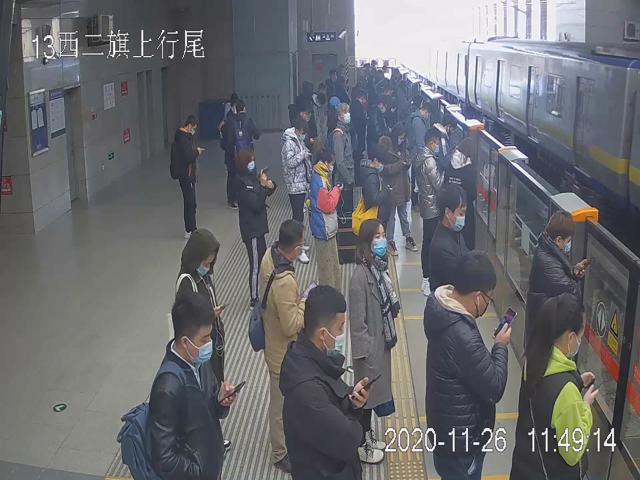person: (423, 252, 511, 480), (148, 292, 238, 480), (282, 287, 368, 480), (512, 291, 599, 480), (259, 220, 313, 470), (348, 219, 402, 466), (525, 209, 587, 353), (233, 150, 273, 310), (377, 122, 418, 255), (413, 126, 445, 296), (279, 120, 314, 264), (308, 148, 343, 290), (328, 102, 358, 267), (171, 115, 203, 240), (443, 136, 479, 246), (359, 144, 392, 237)
